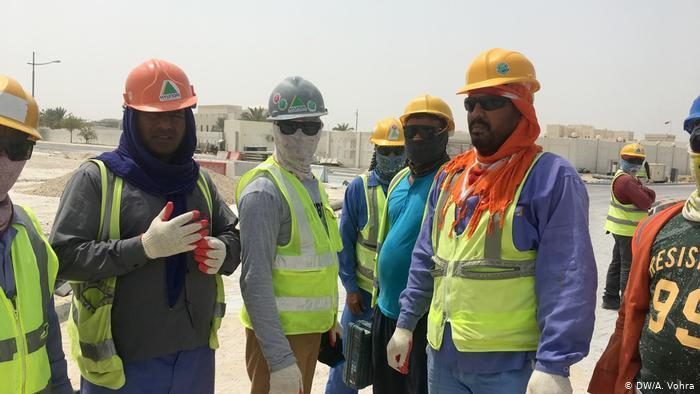helmet: (455, 46, 542, 100), (122, 59, 201, 114), (268, 75, 331, 124), (1, 77, 46, 141), (400, 92, 458, 132), (370, 118, 408, 149), (620, 142, 649, 162)
